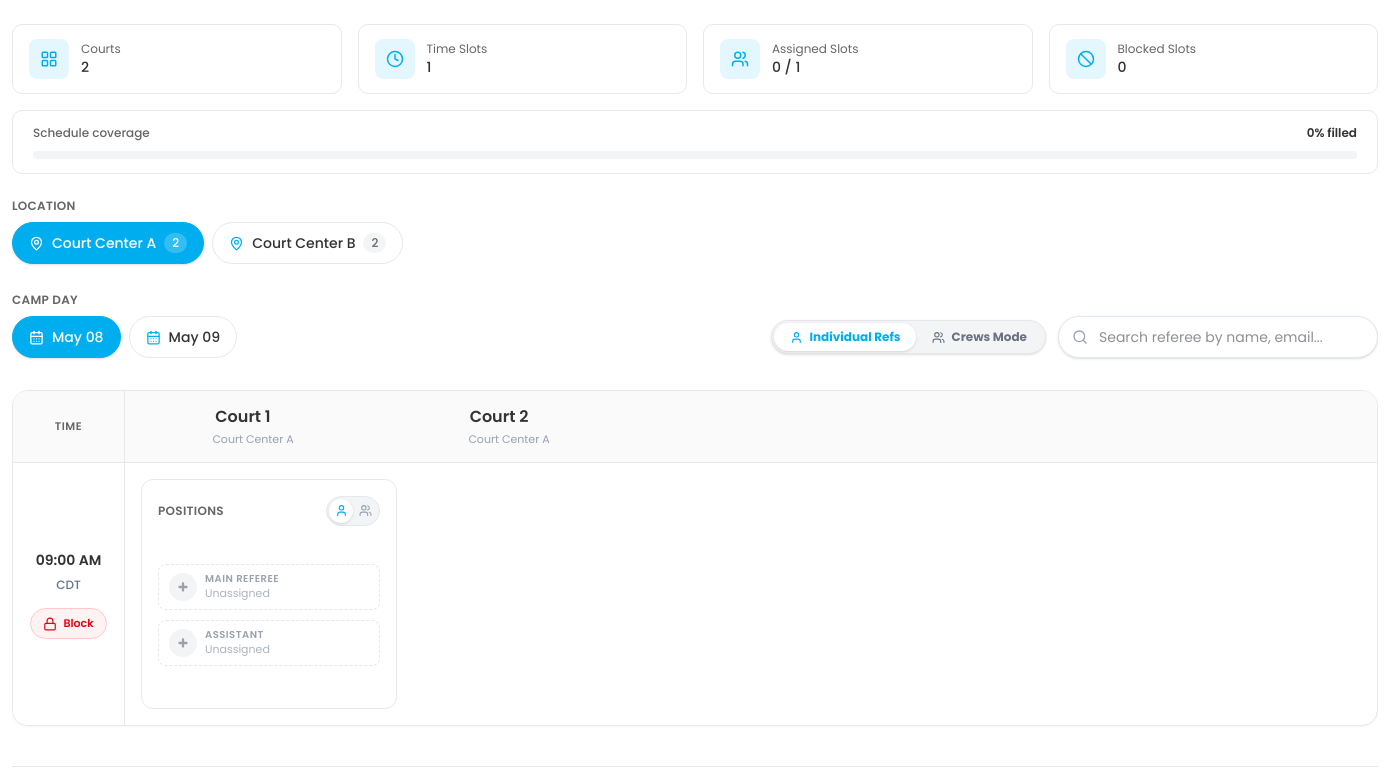
CourtLists Component › uses only the selected location's court timezones
expect the text "EDT" is not shown: met
Click the button "Court Center B 2" at [308, 243], box [212,222,403,264]
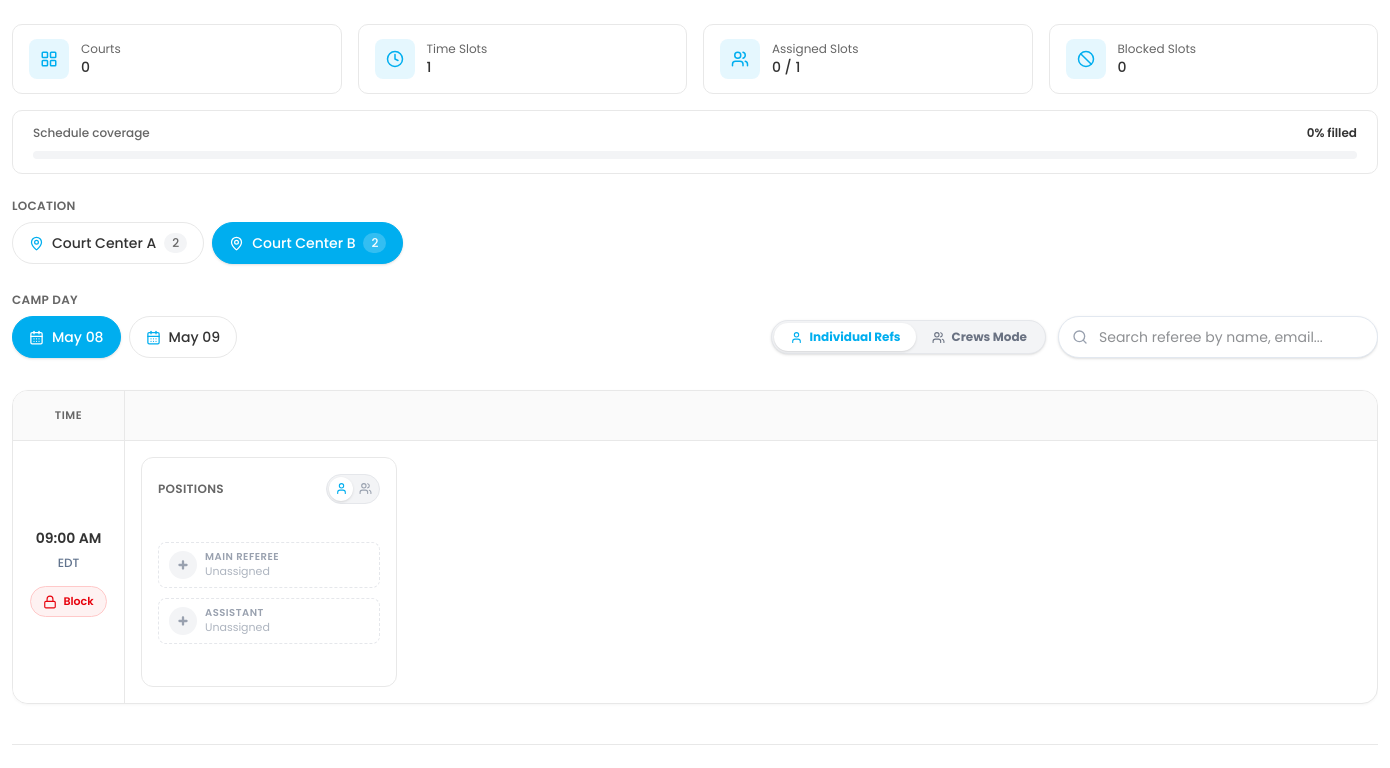
expect the text "CDT" is gone: met
